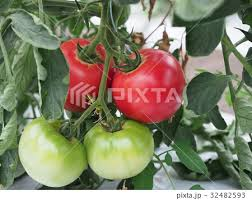tomato: (110, 50, 184, 124), (53, 38, 108, 113)
